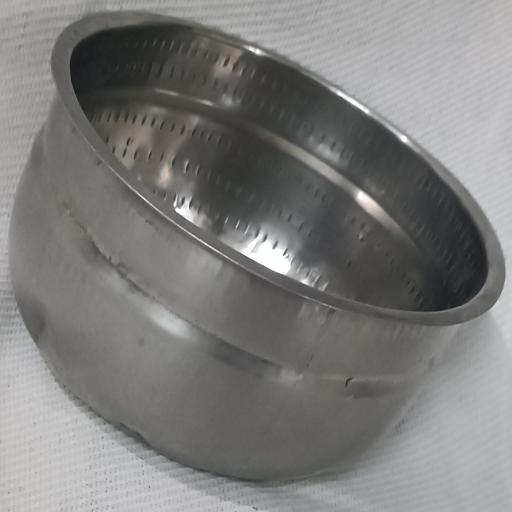vessel: (10, 13, 504, 480)
